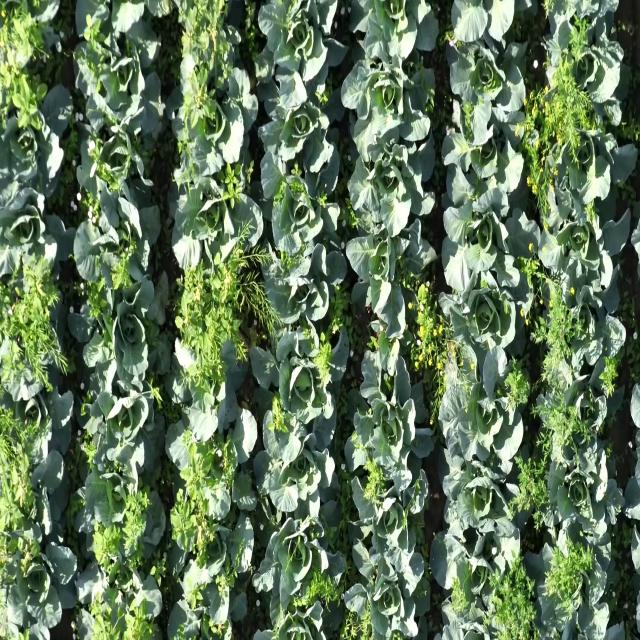holes: (247, 321, 351, 459), (535, 182, 636, 322), (440, 442, 528, 574), (256, 74, 336, 182)
